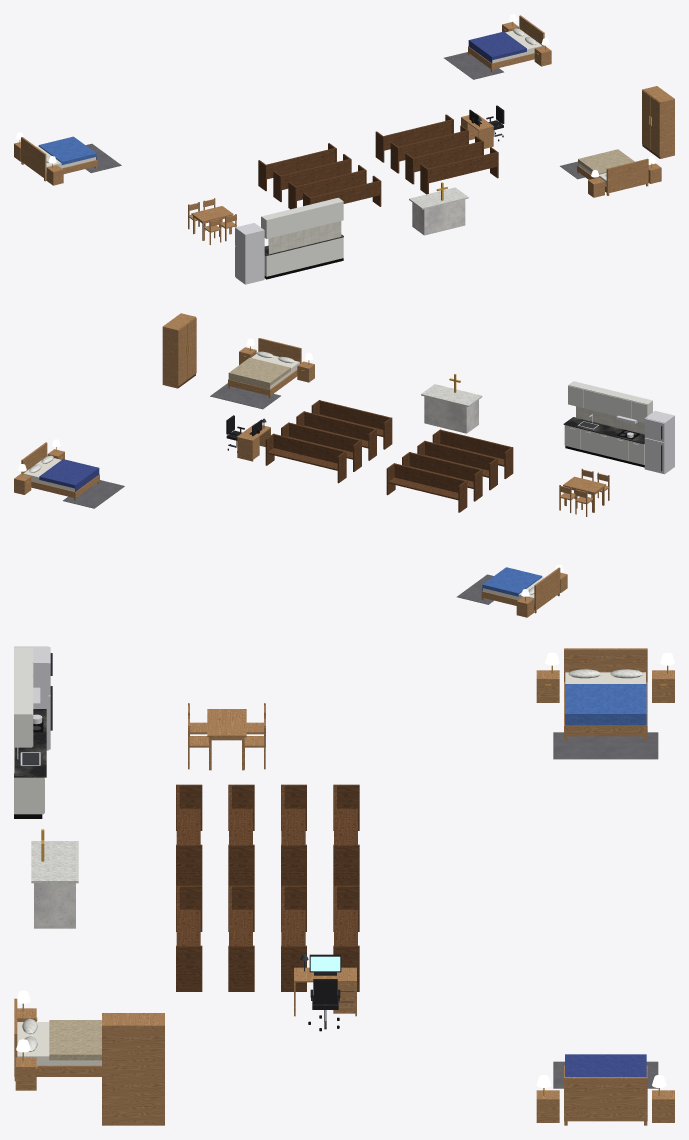
Rendered from i_minnan_sanheyuan.gltf.
3 renders of one model, top to bottom at view 1: azimuth 30°, elevation 25°; view 2: azimuth 150°, elevation 25°; view 3: azimuth 270°, elevation 25°, orthographic. The views are drawn at different scales.
Visible parts, largest first — view 1: I_minnan_sanheyuan; view 2: I_minnan_sanheyuan; view 3: I_minnan_sanheyuan.
Boxes of the visible parts, x1,y1,x2,y2 form: I_minnan_sanheyuan: [14, 14, 674, 284]; I_minnan_sanheyuan: [14, 313, 674, 617]; I_minnan_sanheyuan: [14, 646, 674, 1125].
Bounding box in the file's own units: 19.41 × 2.2 × 12.61.
Materials: 20 (10 with a texture image).
